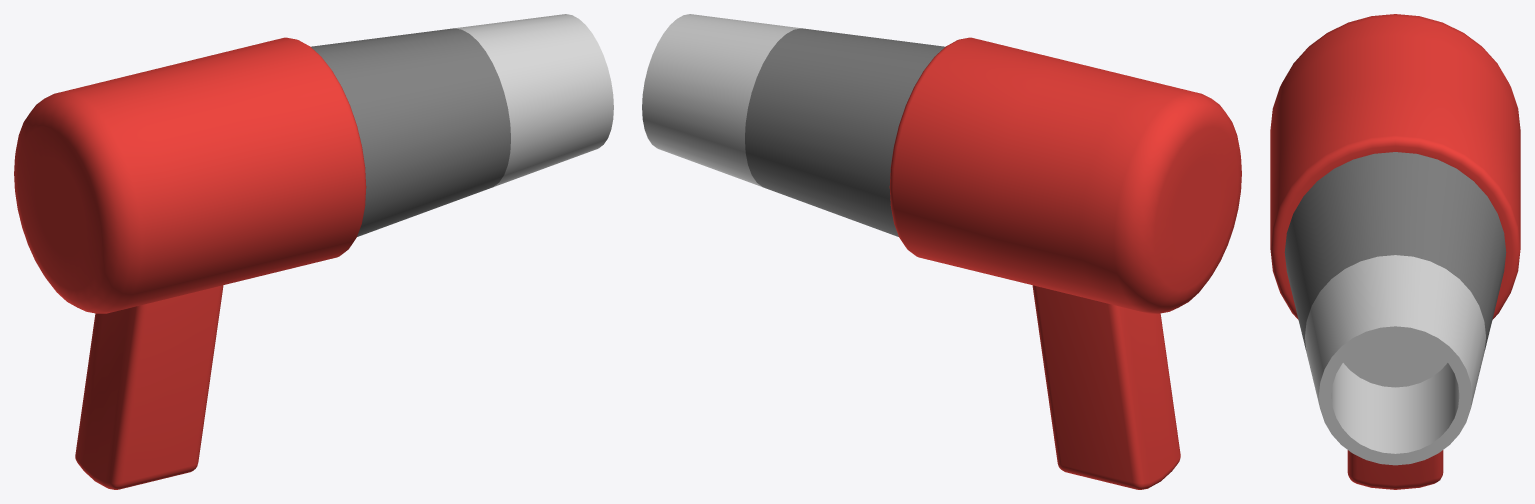
File: kurutmaMakina.fbx
The picture shows the model from 3 angles, left to right: view 1: azimuth 30°, elevation 25°; view 2: azimuth 150°, elevation 25°; view 3: azimuth 270°, elevation 25°; orthographic projection. The views are drawn at different scales.
Visible parts, largest first — view 1: kurutmaMakina; view 2: kurutmaMakina; view 3: kurutmaMakina.
Part boxes in pixels (x1,y1,x2,y2): kurutmaMakina: [14, 14, 613, 489]; kurutmaMakina: [642, 14, 1241, 489]; kurutmaMakina: [1270, 14, 1520, 489].
Bounding box in the file's own units: 597 × 424 × 226.
